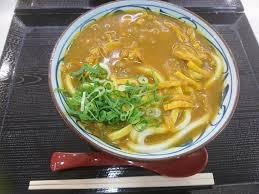curry: (48, 1, 242, 160)
